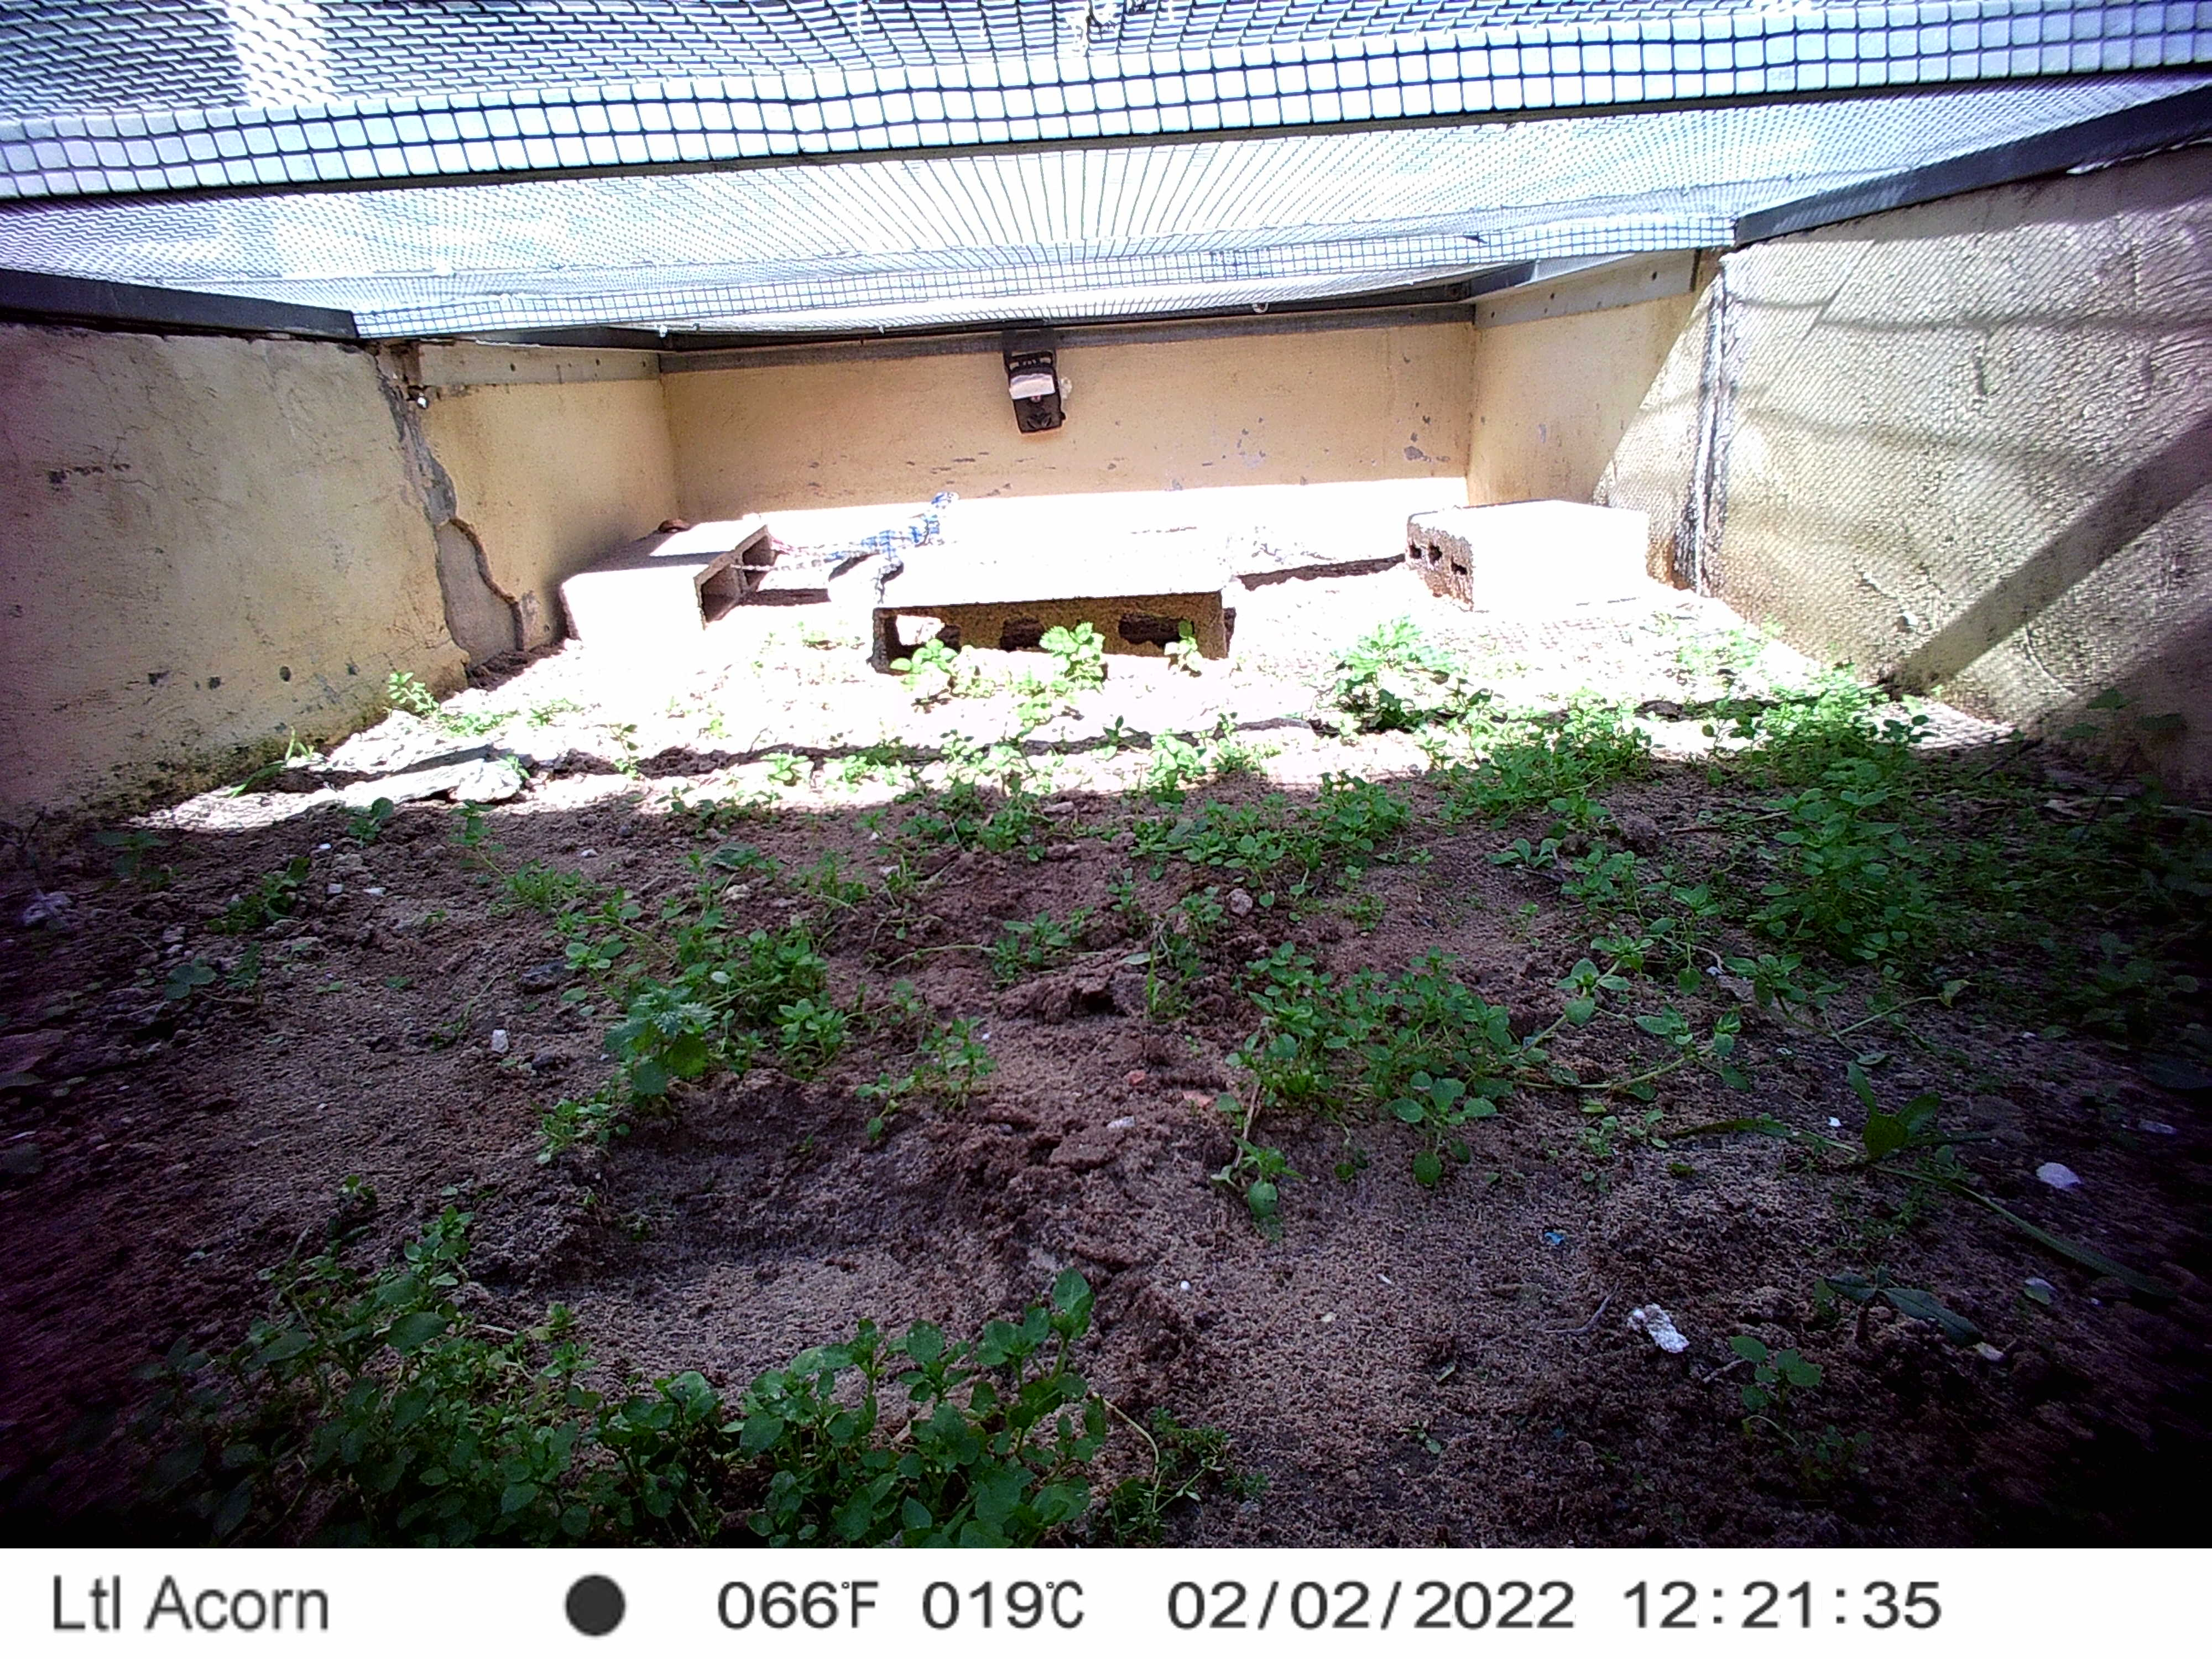lizard: (805, 491, 961, 606)
